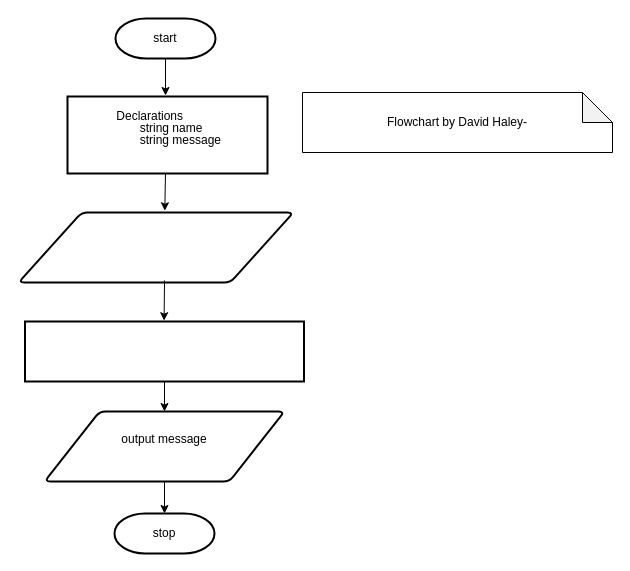
Image size: 630x571. Some labels were removed from this diagram. The box of each missing label's shape, as (x1, y1, x2, y2) in pixels:
message = "Hello ", name, " have a good day": (24, 320, 304, 382)
output "Please enter your name " input name: (17, 211, 294, 283)
